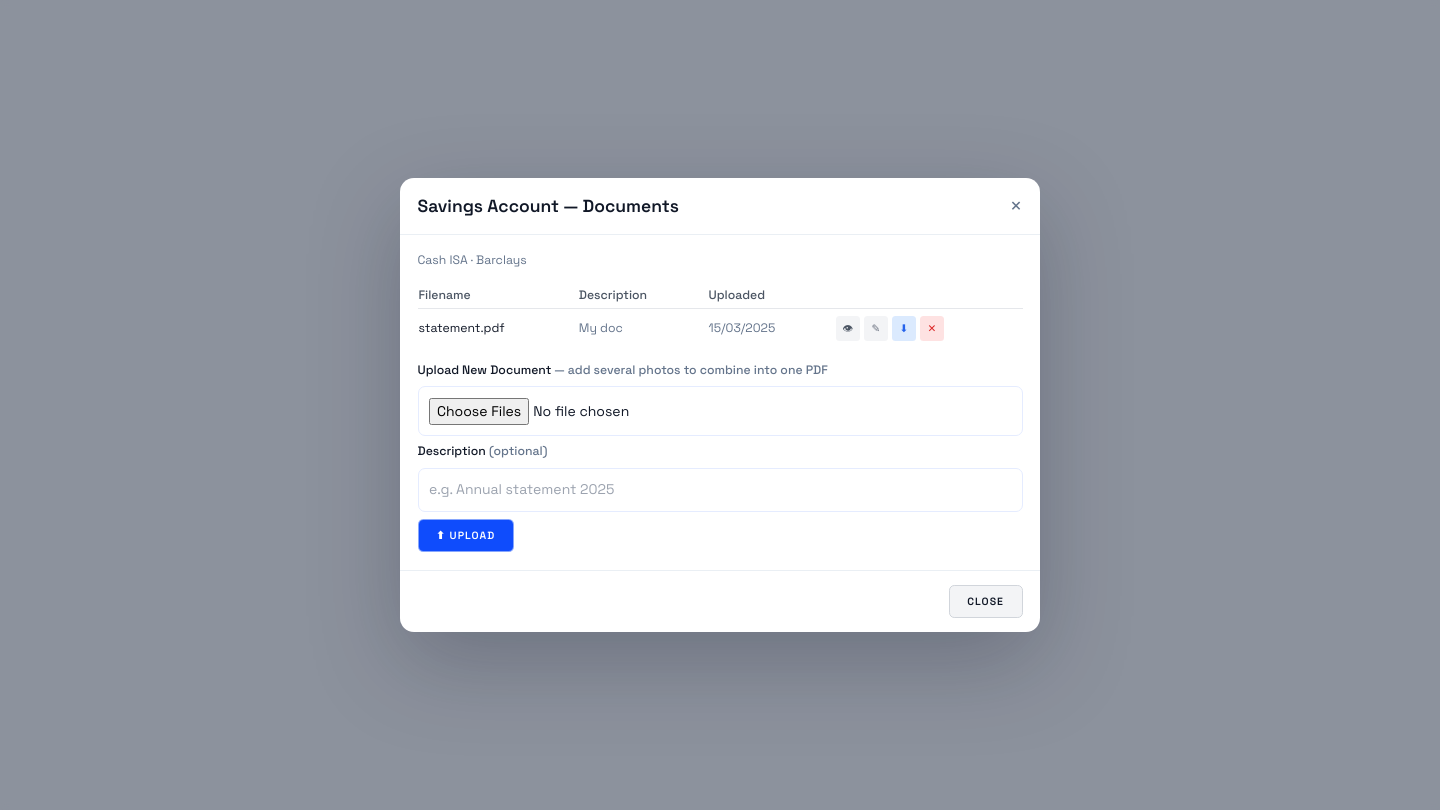
Scenario: TaxDocumentsModal › description editing › shows edit input when edit description button clicked
Click the button titled "Edit description": (876, 329) [864,316,888,341]
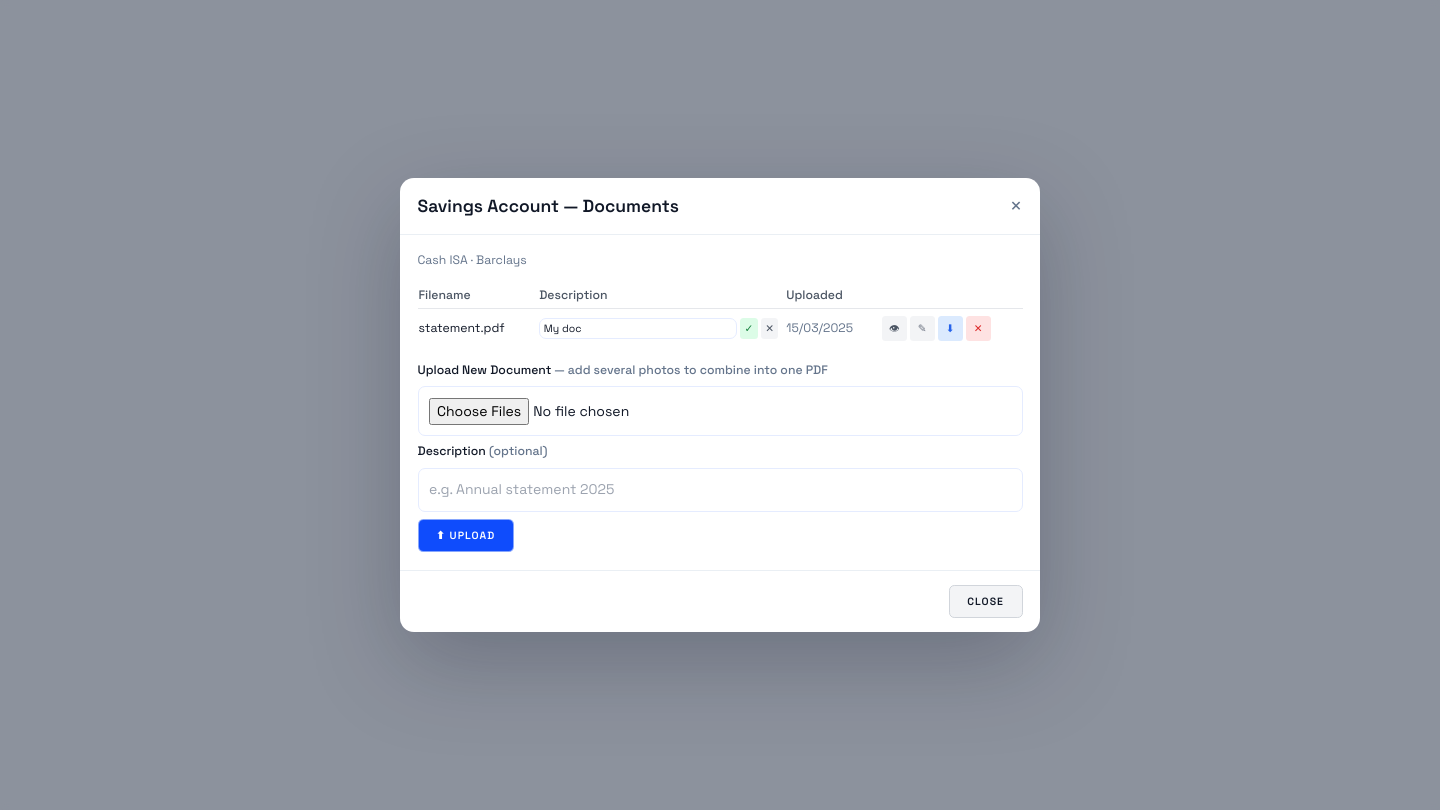
Now the 1st field is shown, box [539,318,737,339]
